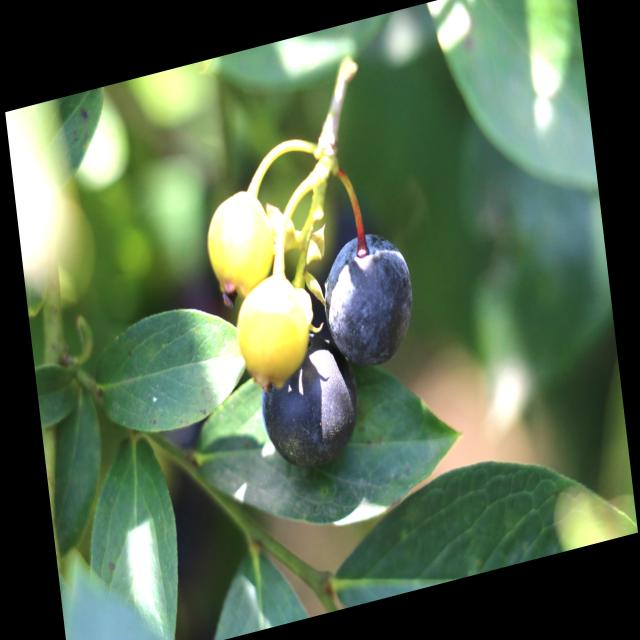blueberry: (257, 323, 373, 478), (316, 222, 426, 380)
blueberry-unripe: (232, 266, 314, 394), (202, 182, 278, 299)
